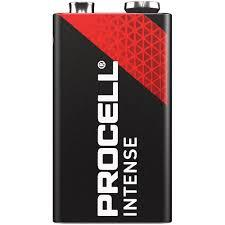9V Battery: (52, 0, 173, 225)
